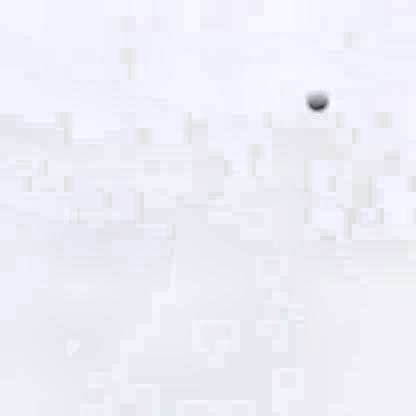golfball: (300, 86, 328, 111)
